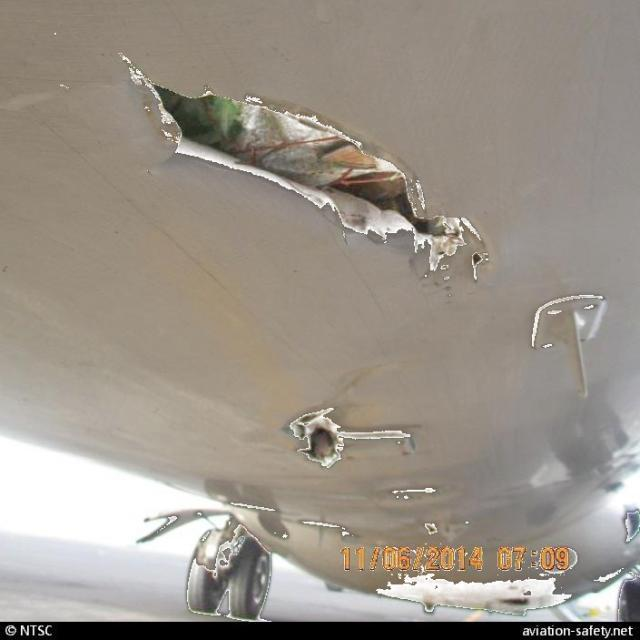crack: (121, 53, 484, 285)
